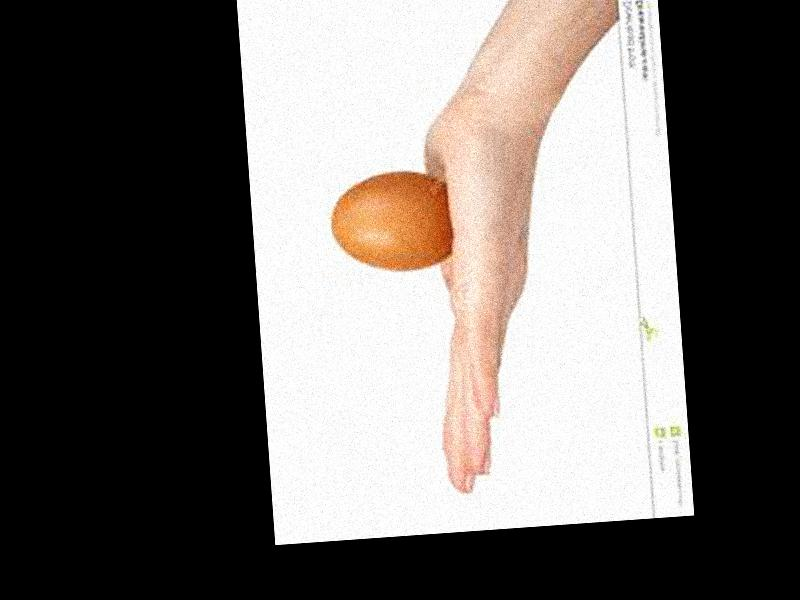Eggs: (328, 170, 457, 276)
